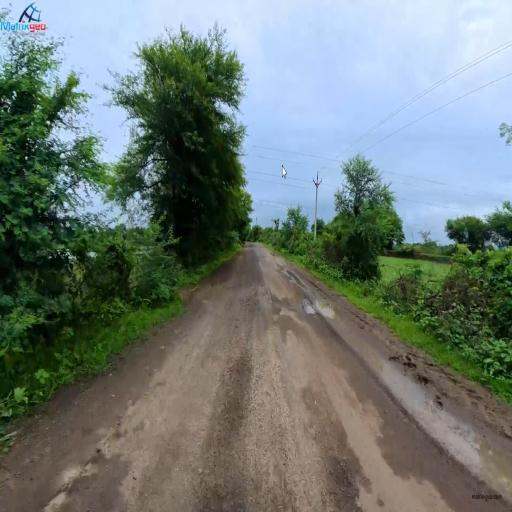ravelling: (187, 339, 308, 502)
